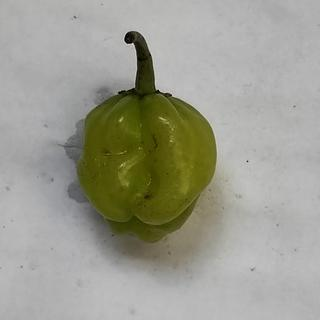Grade-B: (70, 85, 224, 243)
